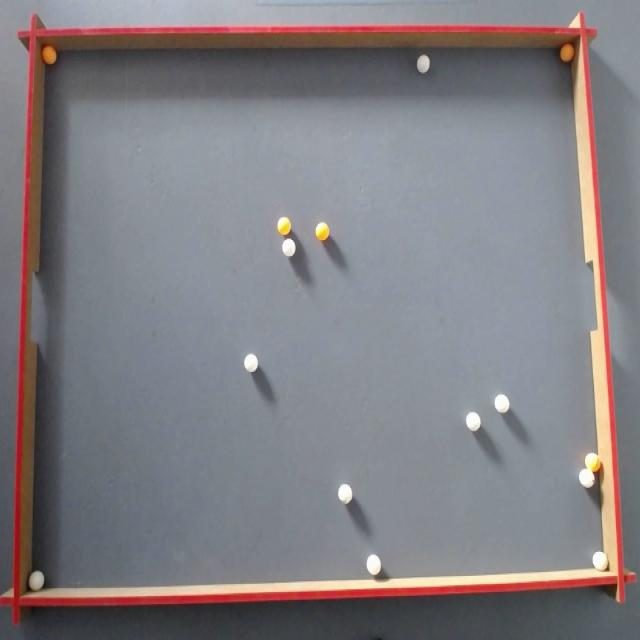orange_ball: (585, 452, 600, 472), (42, 45, 56, 65), (560, 43, 574, 62), (315, 222, 329, 240), (278, 217, 290, 234)
white_ball: (28, 570, 45, 592), (494, 394, 509, 414), (366, 554, 381, 574), (593, 551, 608, 571), (579, 468, 594, 488), (466, 412, 481, 431), (338, 484, 352, 504), (244, 354, 258, 372), (282, 238, 296, 256), (416, 55, 429, 73)
